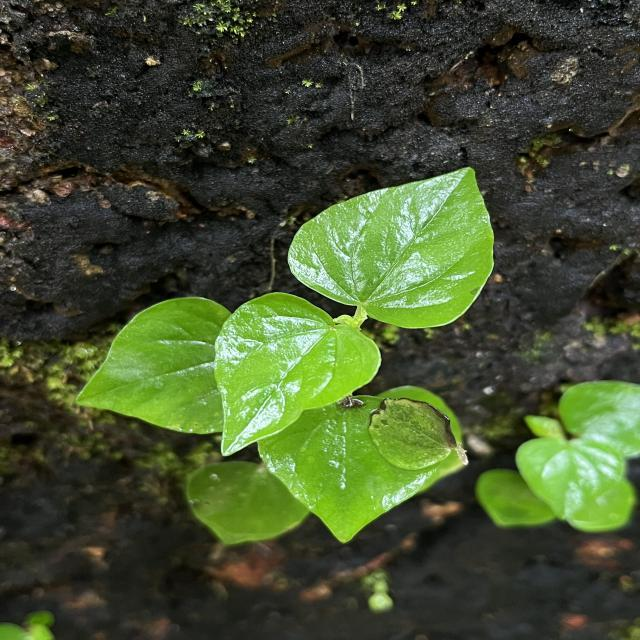Peperomia pellucida: (282, 162, 498, 332), (205, 289, 387, 459)
